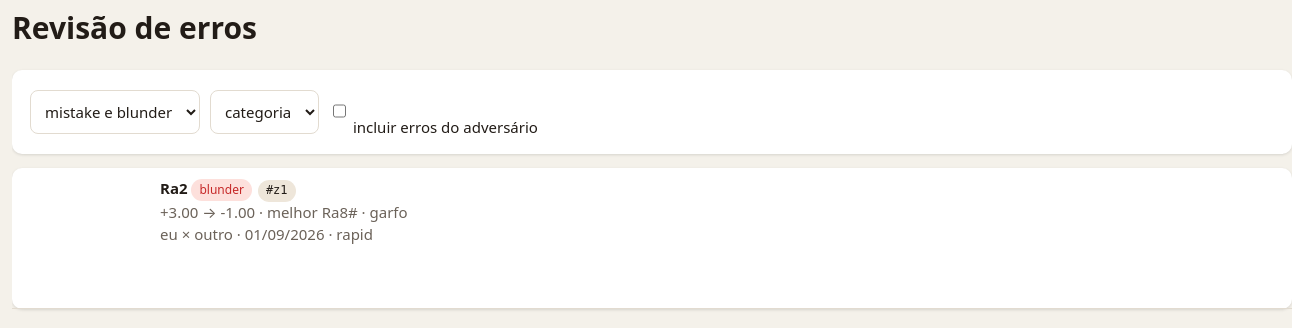
Test: a linha do erro traz o código do exercício, e o clique nele não abre o erro
Click the button titled "clique para copiar" at (277, 191), box [258,180,296,202]
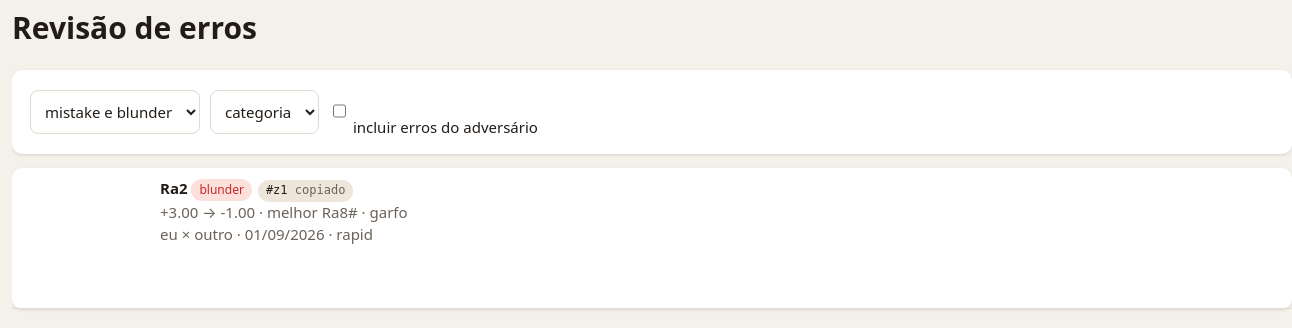
Expected: the text "copiado" is shown, [288,183,345,197]
